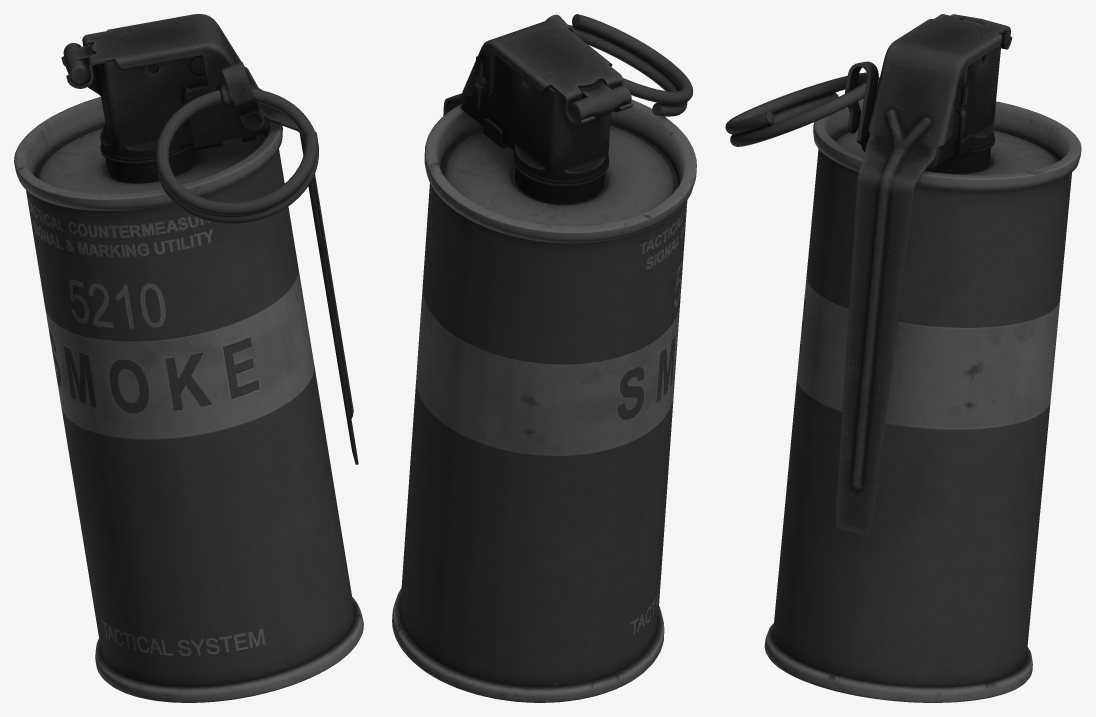
The model's file is smokegrenade_r.glb.
3 renders of one model, left to right at view 1: azimuth 30°, elevation 25°; view 2: azimuth 150°, elevation 25°; view 3: azimuth 270°, elevation 25°, orthographic.
Parts seen in each view (by area): view 1: v_smokegrenade_R; view 2: v_smokegrenade_R; view 3: v_smokegrenade_R.
Boxes of the visible parts, x1,y1,x2,y2 form: v_smokegrenade_R: (14, 14, 363, 702); v_smokegrenade_R: (392, 14, 696, 702); v_smokegrenade_R: (725, 14, 1081, 702).
Bounding box in the file's own units: 0.0592 × 0.1222 × 0.0633.
1 material, 1 textured.
